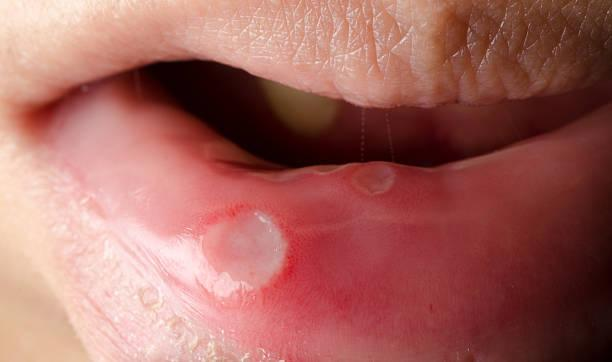Ulcer: (189, 182, 304, 310), (298, 152, 414, 222)
